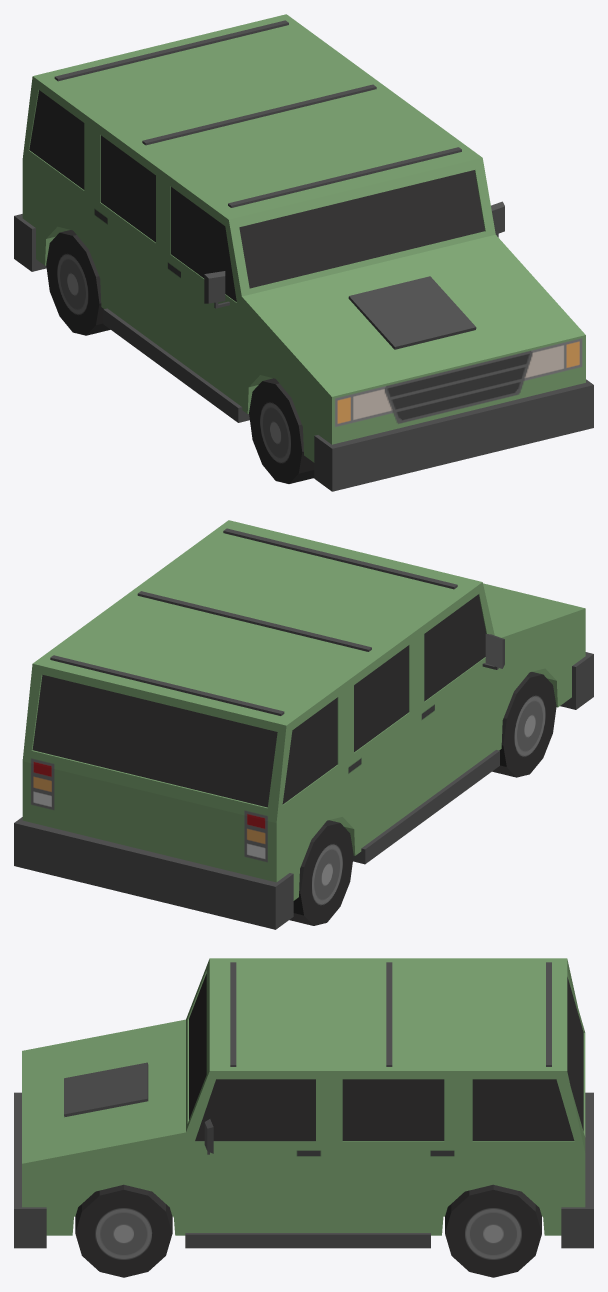
File: car.gltf
3 renders of one model, top to bottom at view 1: azimuth 30°, elevation 25°; view 2: azimuth 150°, elevation 25°; view 3: azimuth 270°, elevation 25°, orthographic. The views are drawn at different scales.
Visible parts, largest first — view 1: Vehicle_SUV; view 2: Vehicle_SUV; view 3: Vehicle_SUV.
Part boxes in pixels (x1,y1,x2,y2): Vehicle_SUV: (14,14,593,491); Vehicle_SUV: (14,520,593,929); Vehicle_SUV: (14,958,593,1277).
Size of the model in its own units: 3.1 by 2.27 by 5.73.
Materials: 1 (1 with a texture image).
